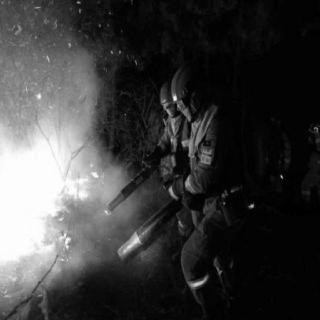Fire: (1, 138, 93, 264)
other: (147, 68, 237, 308)
